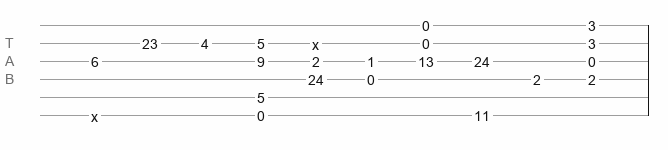0: (257, 108, 265, 118), (367, 72, 375, 82), (422, 36, 430, 46), (422, 18, 430, 28), (588, 54, 596, 64)
1: (367, 54, 375, 64)
11: (474, 108, 490, 118)
13: (418, 54, 434, 64)
2: (312, 54, 320, 64), (533, 72, 541, 82), (588, 72, 596, 82)
23: (142, 36, 158, 46)
24: (308, 72, 324, 82), (474, 54, 490, 64)
3: (588, 36, 596, 46), (588, 18, 596, 28)
4: (201, 36, 209, 46)
5: (257, 90, 265, 100), (257, 36, 265, 46)
6: (91, 54, 99, 64)
9: (257, 54, 265, 64)
x: (91, 109, 98, 117), (312, 37, 319, 45)
